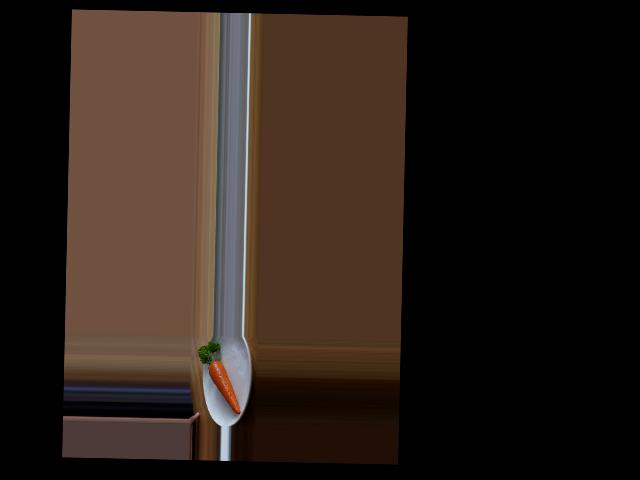carrot: (205, 354, 242, 417)
